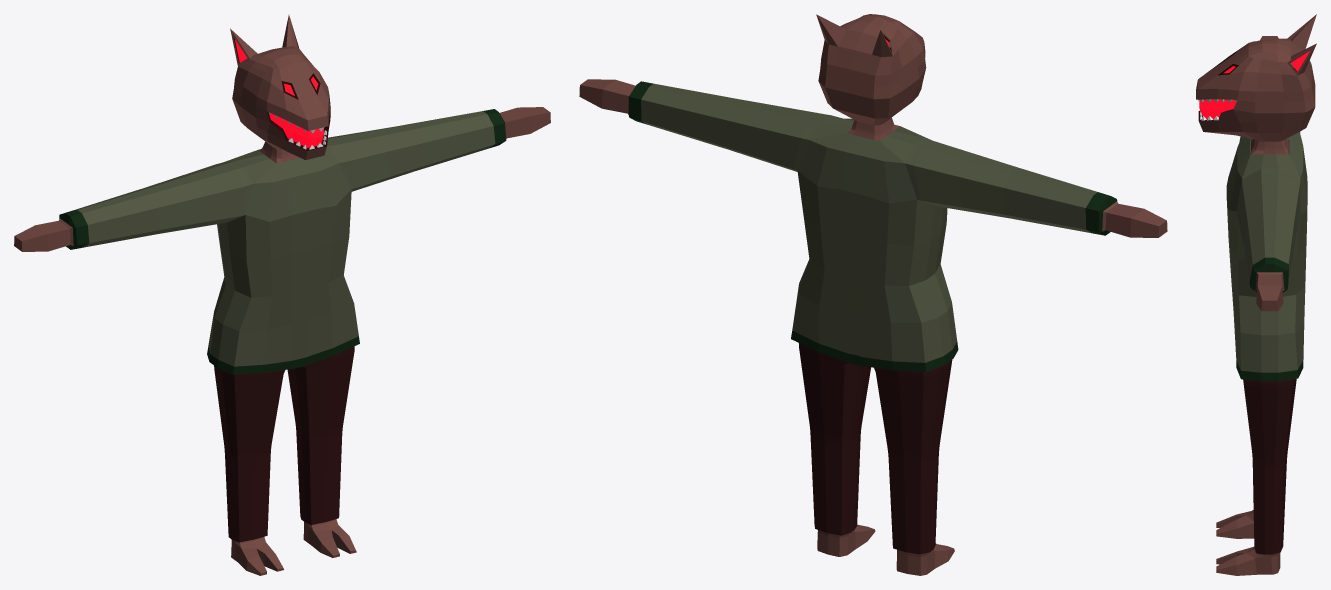
Rendered from Scrapper.fbx.
3 renders of one model, left to right at view 1: azimuth 30°, elevation 25°; view 2: azimuth 150°, elevation 25°; view 3: azimuth 270°, elevation 25°, orthographic. The views are drawn at different scales.
Parts seen in each view (by area): view 1: Scrapper; view 2: Scrapper; view 3: Scrapper.
Boxes of the visible parts, x1,y1,x2,y2 form: Scrapper: (14,15,550,575); Scrapper: (579,14,1167,575); Scrapper: (1196,14,1316,575).
Size of the model in its own units: 1.45 by 1.33 by 0.2801.
